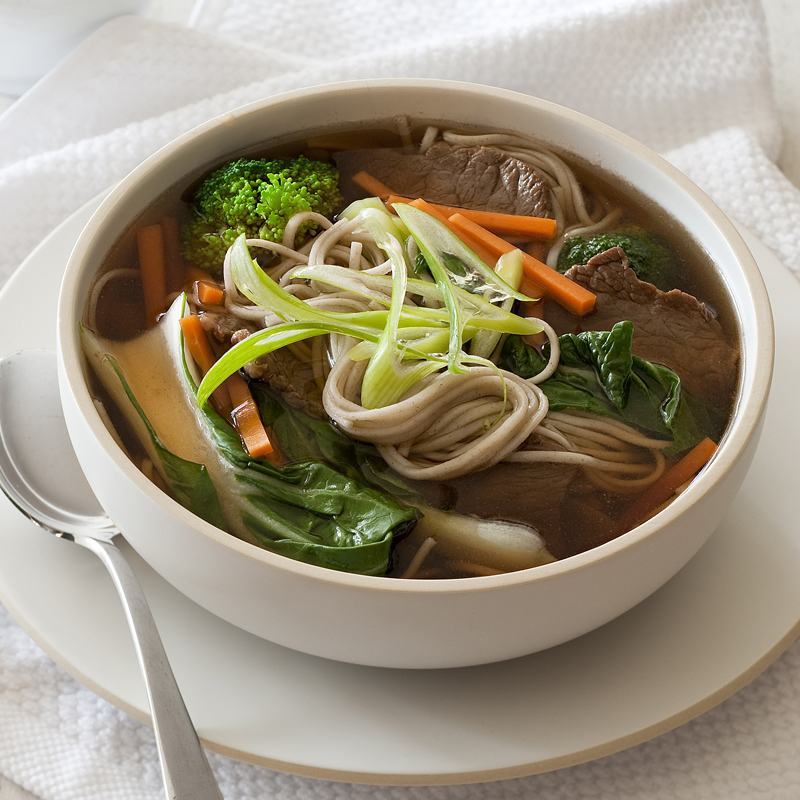Soba: (135, 114, 739, 589)
